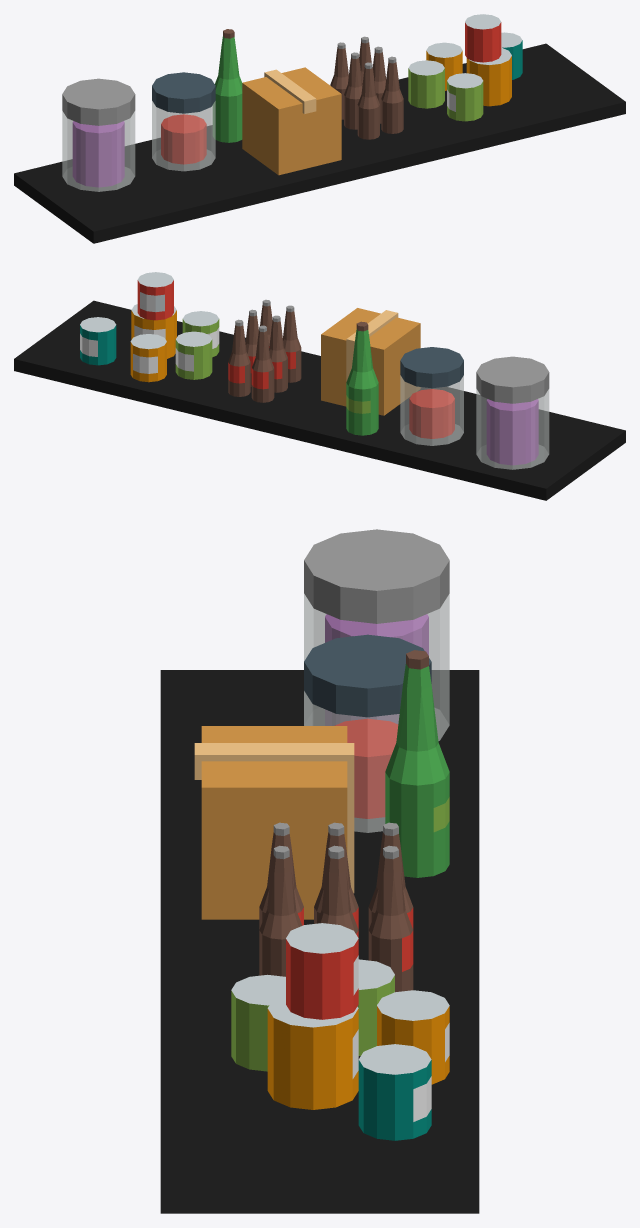
Rendered from shelf1.fbx.
3 renders of one model, top to bottom at view 1: azimuth 30°, elevation 25°; view 2: azimuth 150°, elevation 25°; view 3: azimuth 270°, elevation 25°, orthographic. The views are drawn at different scales.
Visible parts, largest first — view 1: Node.003; view 2: Node.003; view 3: Node.003.
Boxes of the visible parts, x1,y1,x2,y2 form: Node.003: [14, 14, 625, 243]; Node.003: [14, 272, 625, 500]; Node.003: [160, 529, 479, 1213].
Size of the model in its own units: 67.5 by 14.15 by 17.5.
